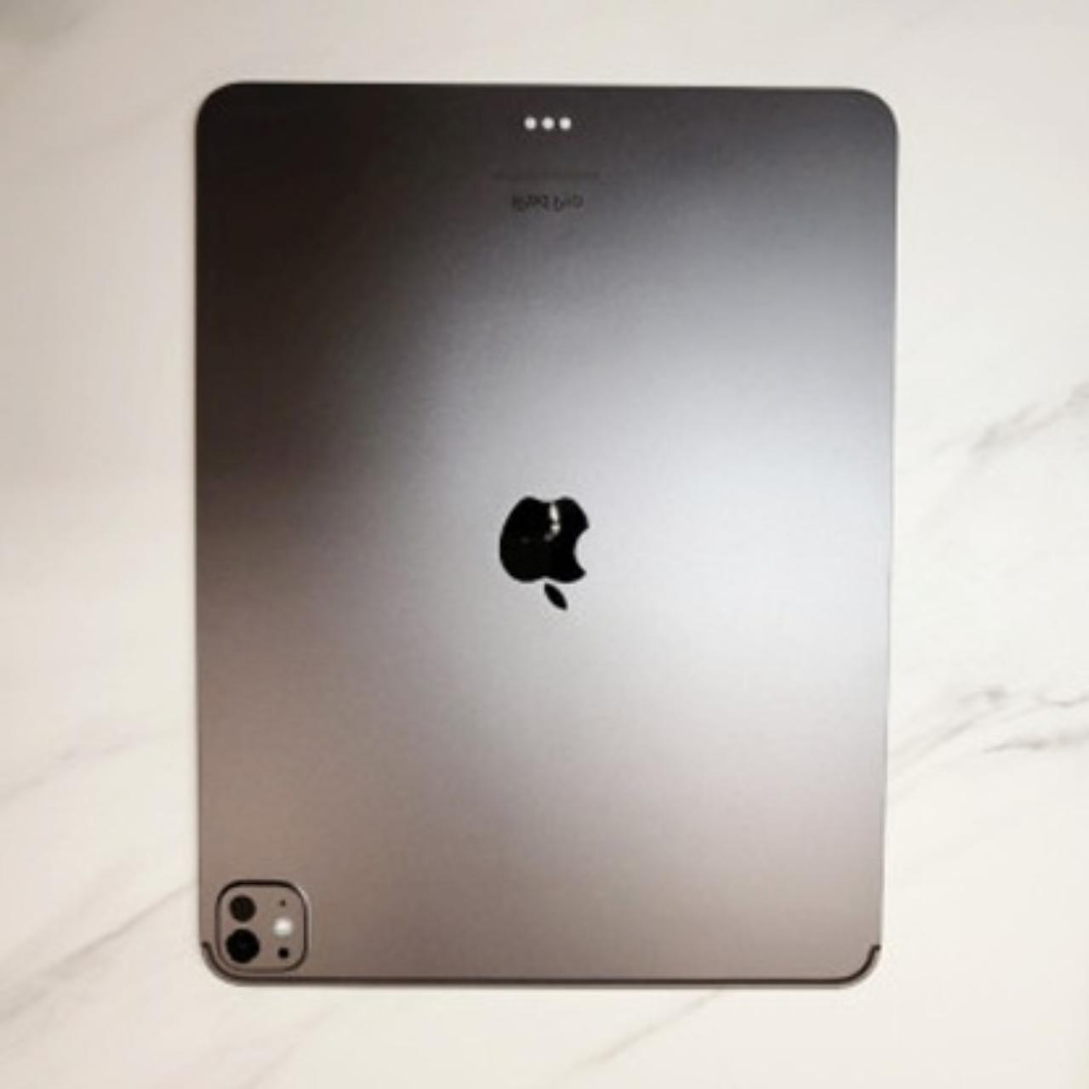Tablet_PC: (181, 87, 921, 1002)
